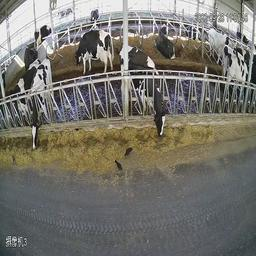cow: (122, 38, 171, 144), (31, 58, 54, 153), (76, 32, 115, 78), (156, 13, 178, 59), (206, 25, 224, 67), (34, 25, 55, 47), (187, 23, 201, 46)
